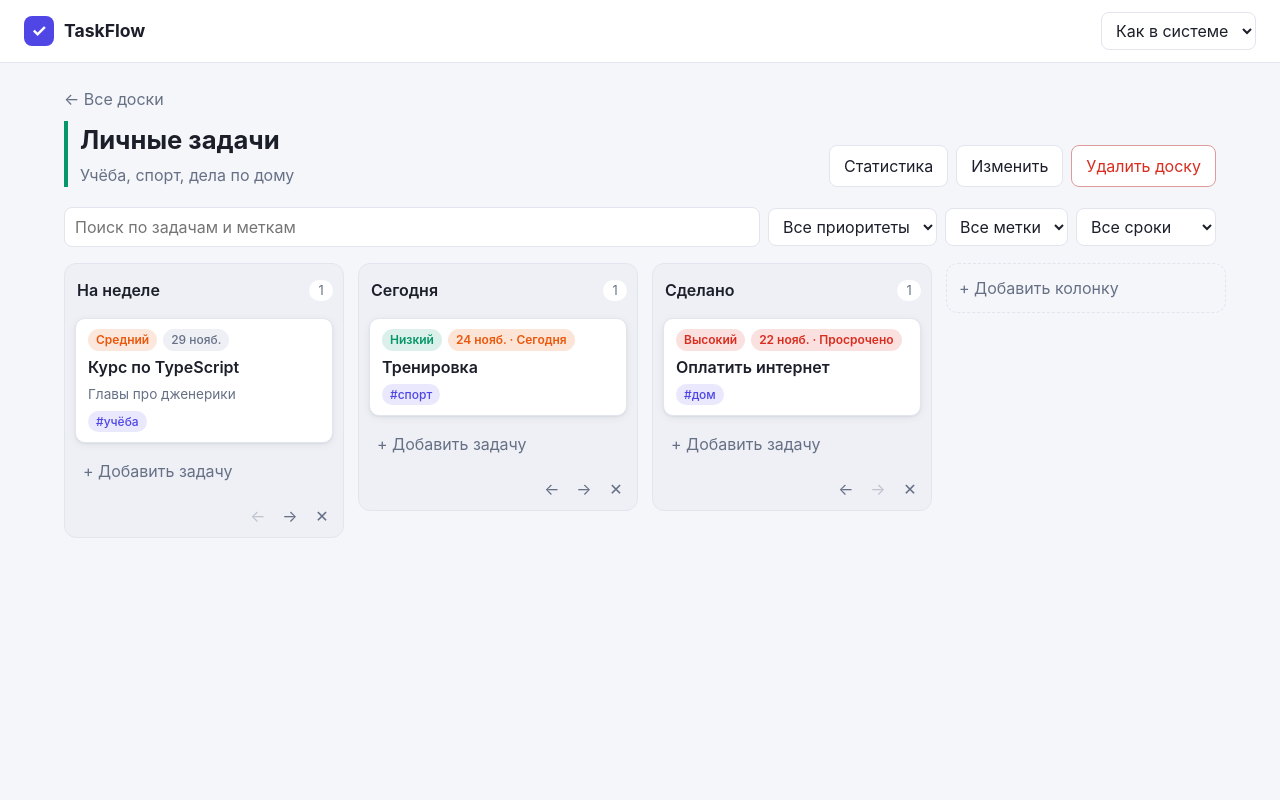
работа с досками и колонками › удаляет доску и возвращает к списку
The width and height of the screenshot is (1280, 800).
Click the button "Удалить доску": (1144, 166) top-left (1071, 145), bottom-right (1216, 187)
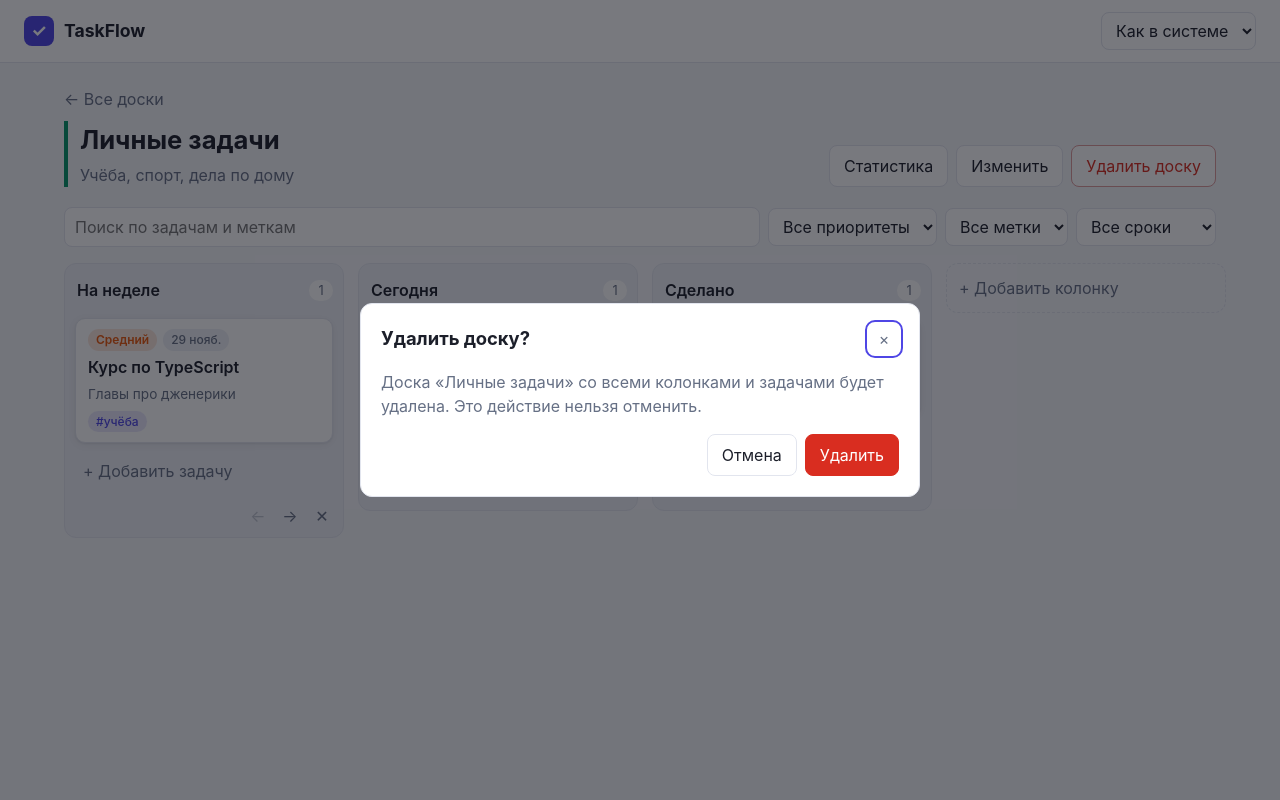
Click the button "Удалить": (852, 455) top-left (805, 434), bottom-right (899, 476)
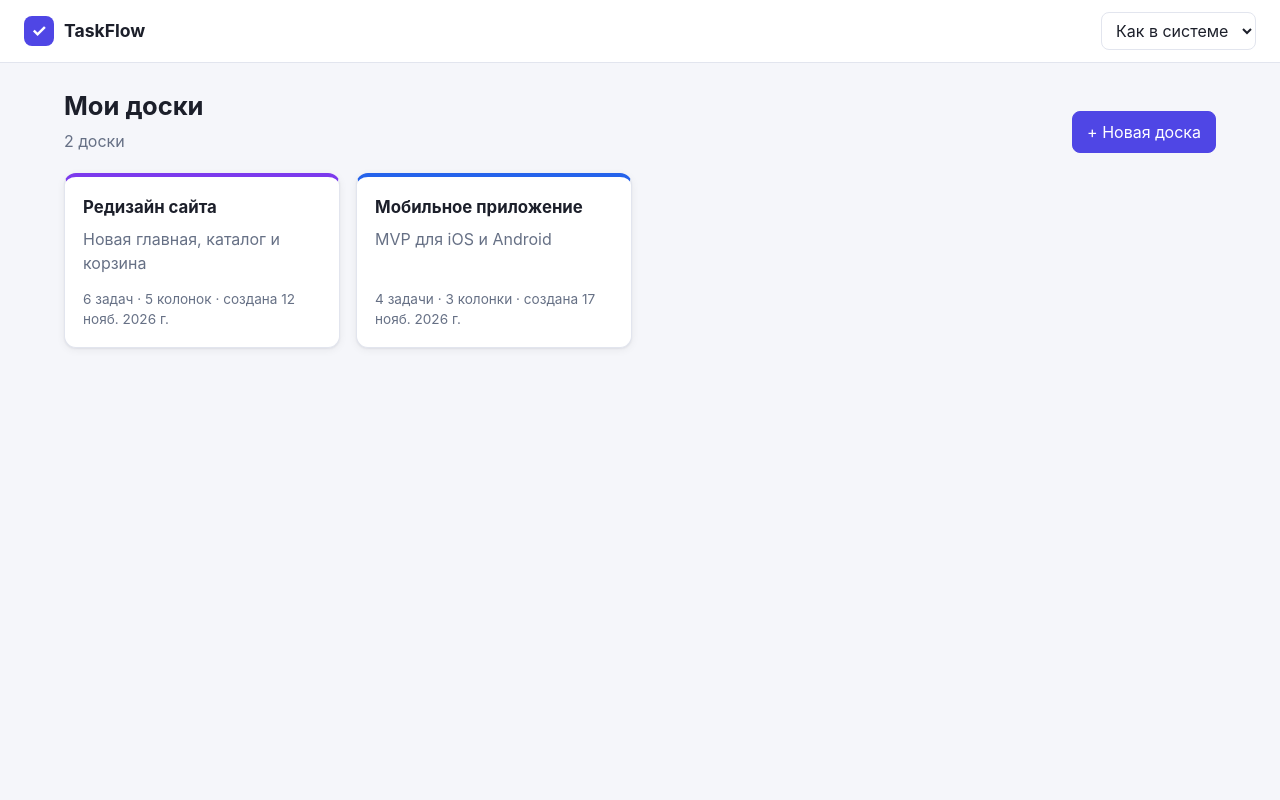
Check: the heading "Мои доски" is shown, box top-left (64, 87), bottom-right (204, 125)
Check: the heading "Личные задачи" is gone
